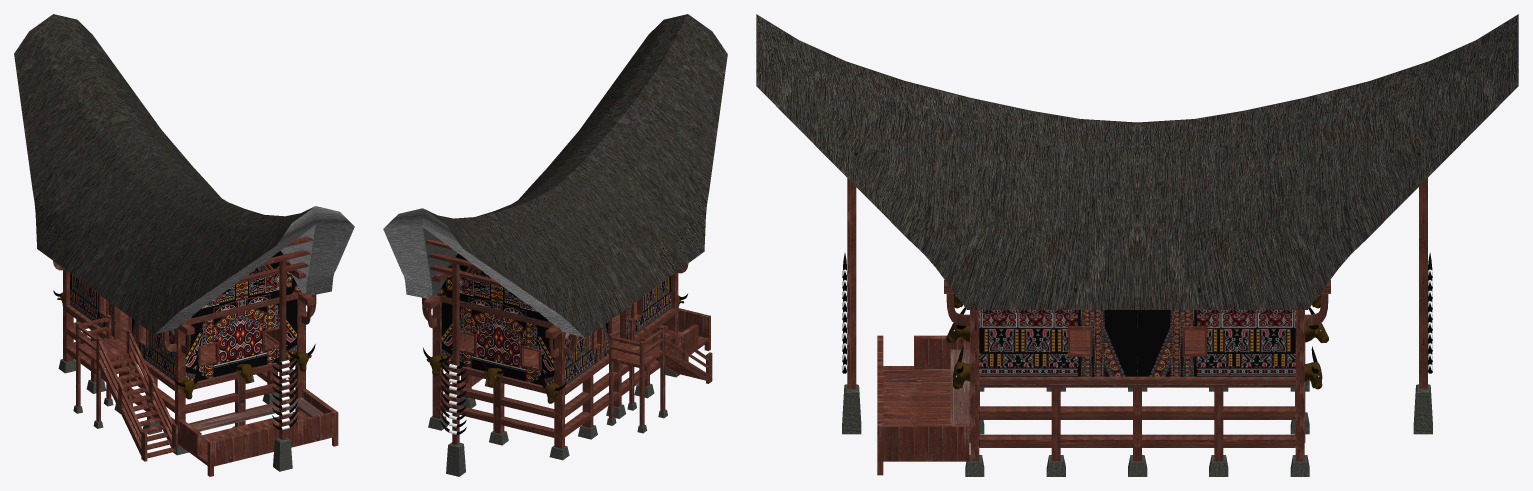
The model's file is tantor.glb.
3 views of the same model, side by side, from view 1: azimuth 30°, elevation 25°; view 2: azimuth 150°, elevation 25°; view 3: azimuth 270°, elevation 25° (orthographic). The views are drawn at different scales.
Parts seen in each view (by area): view 1: model; view 2: model; view 3: model.
Boxes of the visible parts, box(x1,y1,x2,y2) form: model: box(14, 14, 354, 476); model: box(383, 14, 727, 476); model: box(756, 14, 1518, 476).
Bounding box in the file's own units: 3.49 × 5.07 × 8.44.
Materials: 10 (6 with a texture image).
